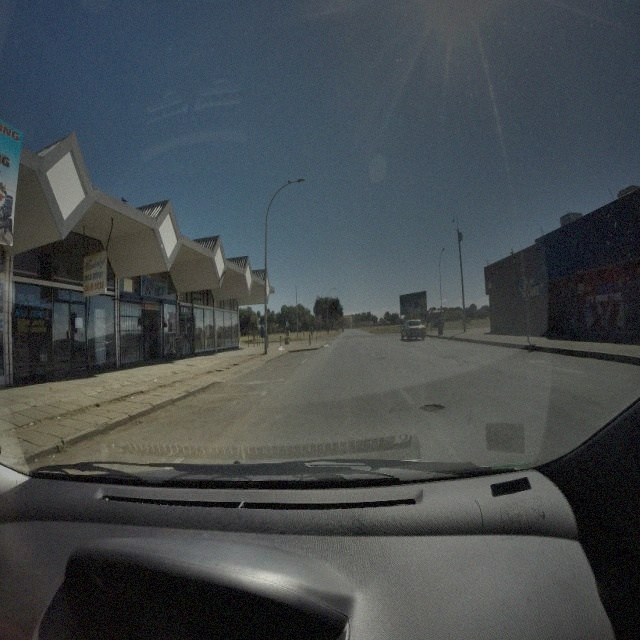pothole: (418, 398, 443, 414)
